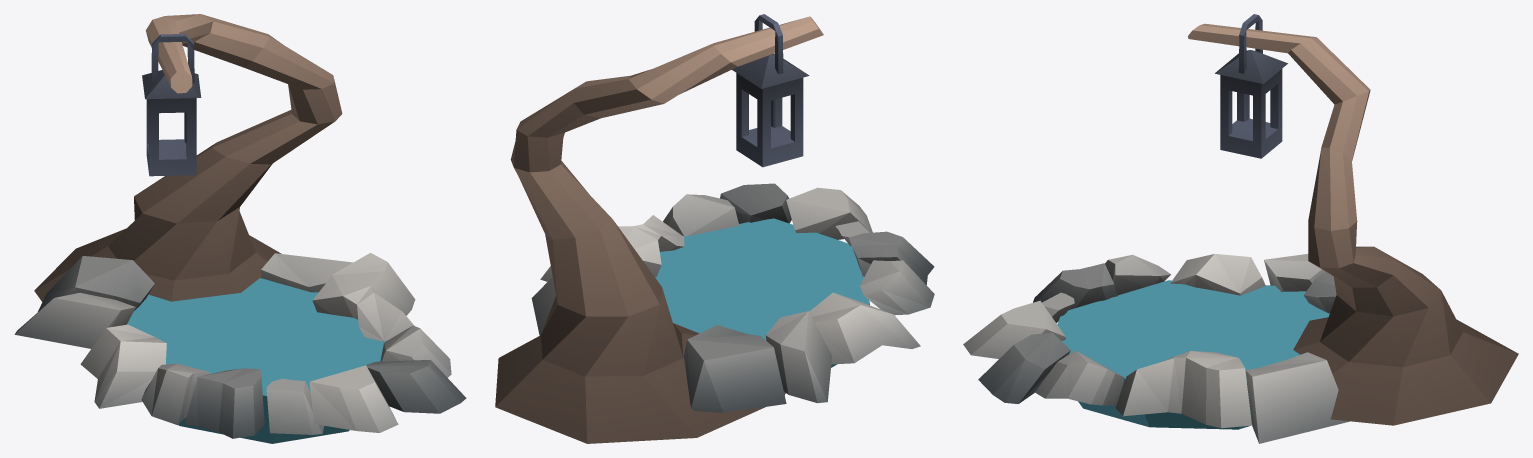
File: m_pond.fbx
3 views of the same model, side by side, from view 1: azimuth 30°, elevation 25°; view 2: azimuth 150°, elevation 25°; view 3: azimuth 270°, elevation 25° (orthographic). The views are drawn at different scales.
Visible parts, largest first — view 1: pond; view 2: pond; view 3: pond.
Boxes of the visible parts, left/top/right/bottom form: pond: left=14, top=14, right=466, bottom=443; pond: left=495, top=14, right=934, bottom=443; pond: left=963, top=14, right=1518, bottom=443.
Size of the model in its own units: 185 by 185 by 269.
